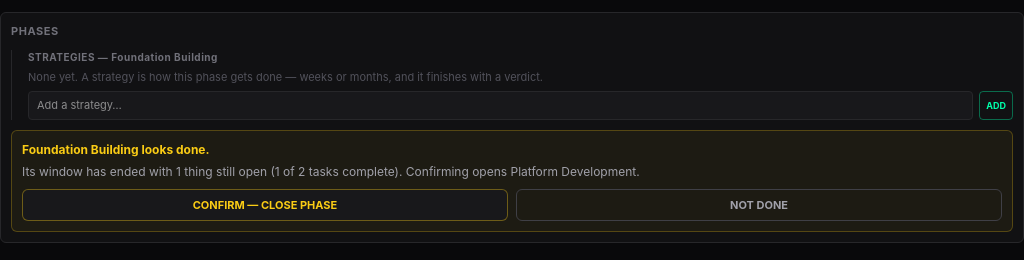
Test: PhasePanel › names the work that moved when a phase overran
The width and height of the screenshot is (1024, 260).
Check: the element with test id "phase-advance-proposal" shows "Its window has ended with 1 thing still open (1 of 2 tasks complete).", box [22, 164, 402, 178]
Click the button "CONFIRM — CLOSE PHASE" at (265, 205), box [22, 188, 508, 221]
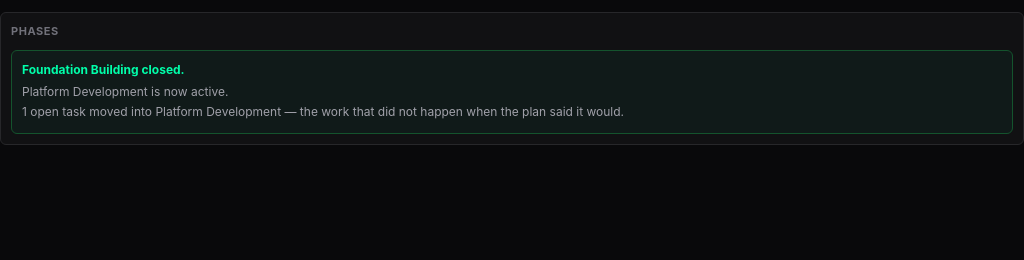
Check: the element with test id "phase-advance-review" shows "1 open task moved into Platform Development", box [11, 50, 1013, 134]
